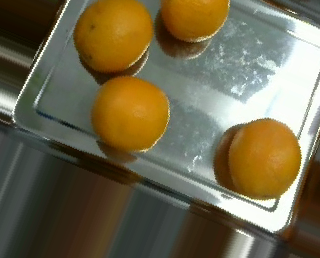Orange: (228, 117, 302, 200), (92, 74, 170, 151), (74, 1, 154, 73)
